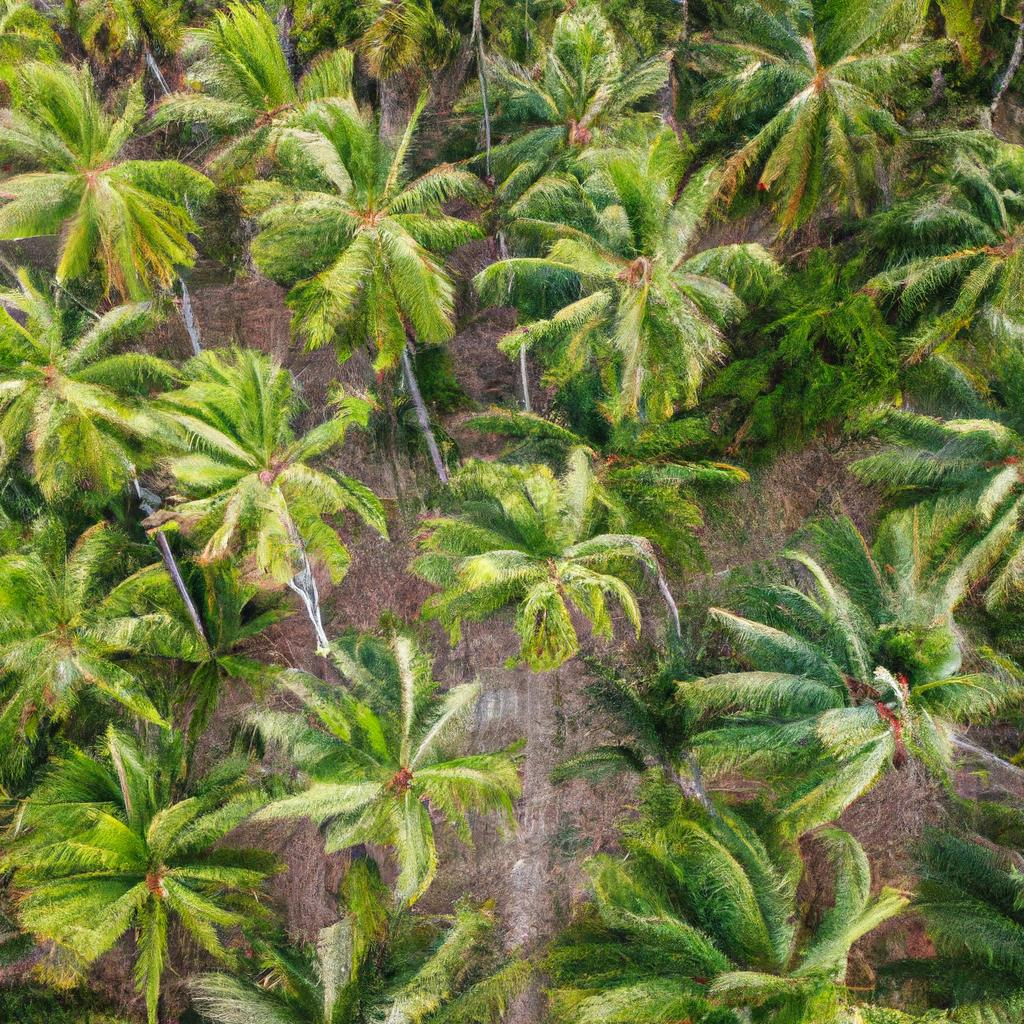coconut_tree: (673, 472, 996, 829), (248, 624, 537, 889), (13, 720, 281, 999), (240, 94, 513, 362), (496, 139, 754, 401), (392, 424, 660, 662), (156, 334, 396, 596), (0, 54, 238, 305), (410, 424, 673, 651), (682, 0, 966, 207), (0, 502, 194, 734), (0, 269, 186, 507)
